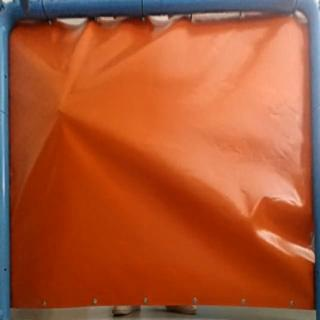Hit-hRxx: (52, 105, 72, 116)
